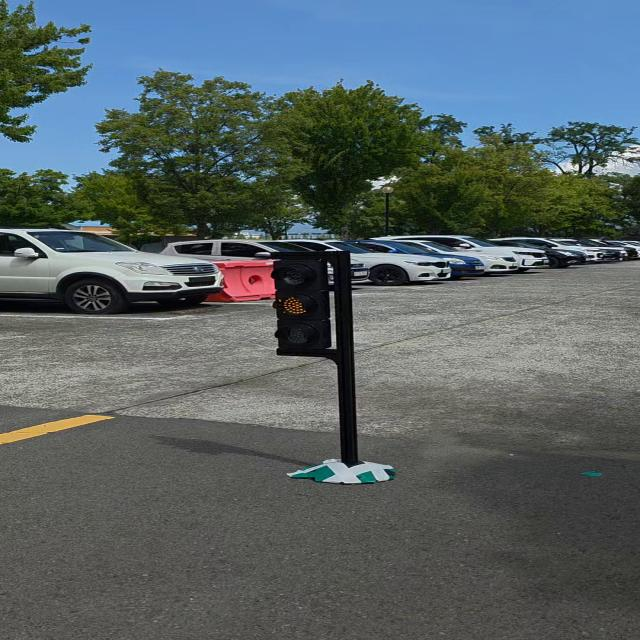yellow: (272, 256, 338, 362)
